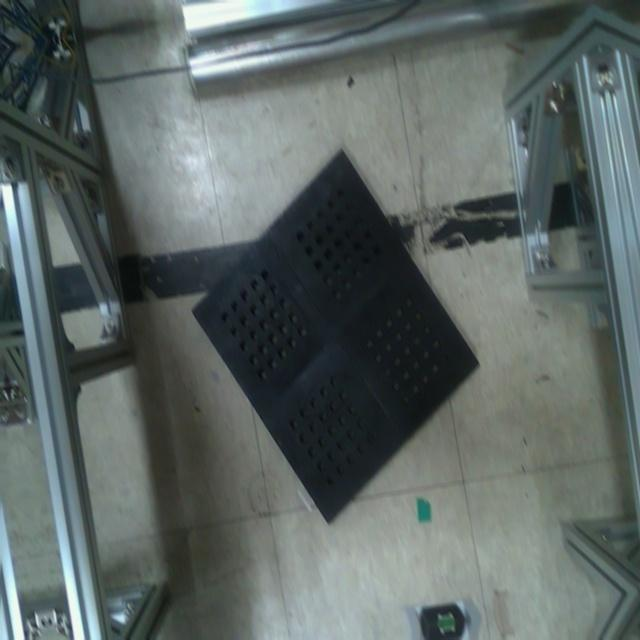pallet: (180, 144, 483, 528)
